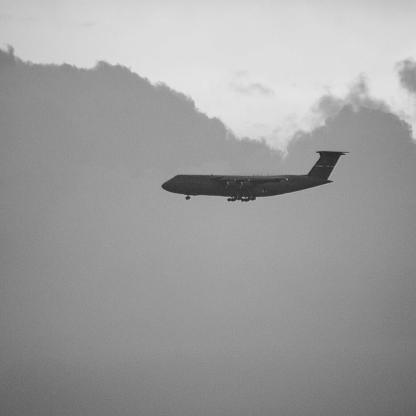C5: (162, 152, 352, 203)
